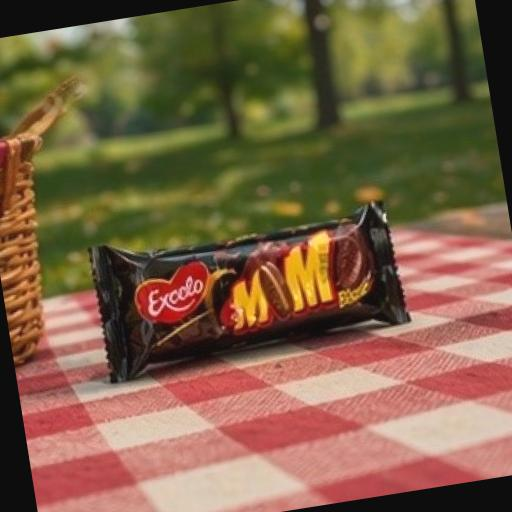MOMO: (59, 130, 452, 428)
